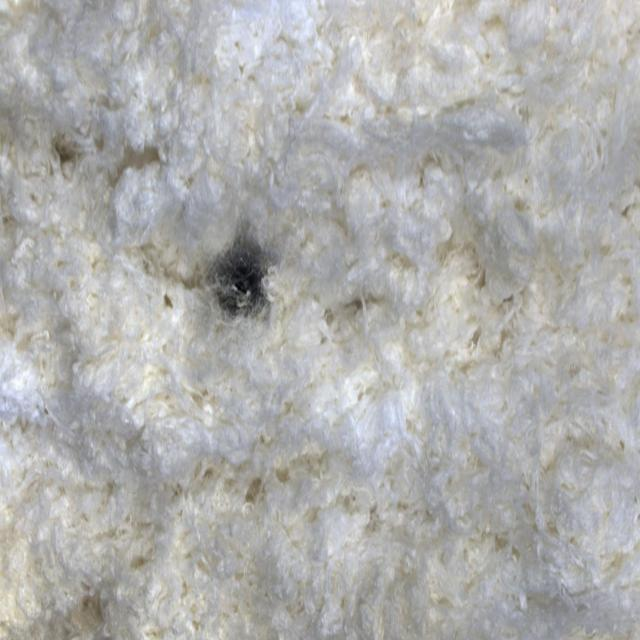dust: (183, 180, 312, 384)
